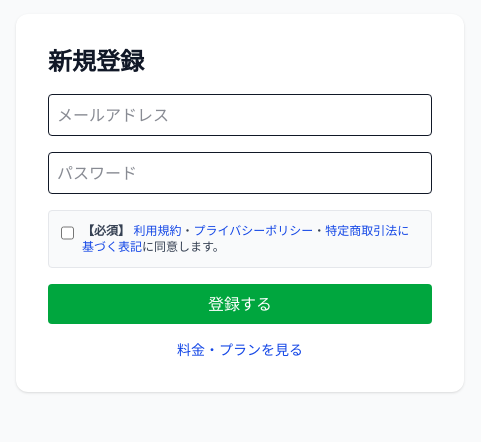
Test case: signup page › requires legal agreement before sign up
Type "new@example.com" into the field with placeholder "メールアドレス" at (240, 115), box [48, 94, 432, 136]
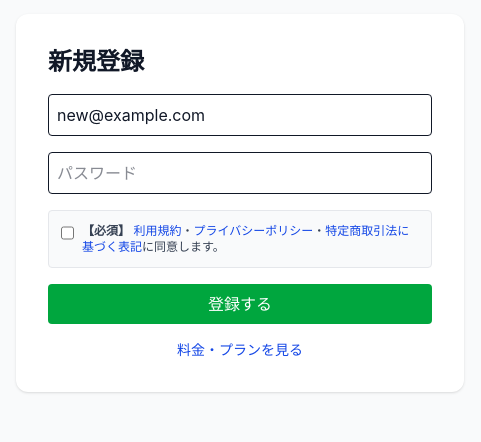
Type "new-password" into the password field with placeholder "パスワード" at (240, 173), box [48, 152, 432, 194]
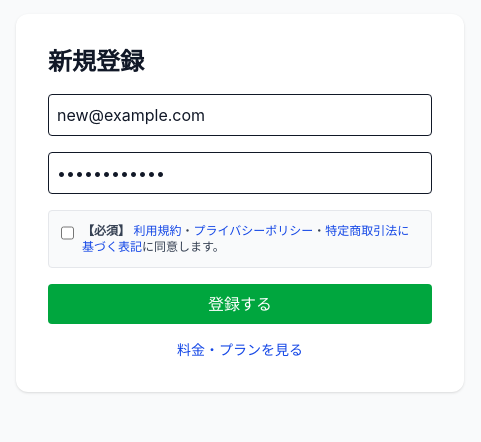
Submit the form "登録する", box [48, 94, 432, 324]
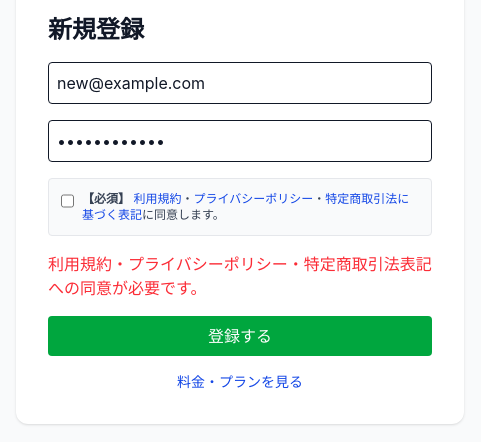
Expected: the text "利用規約・プライバシーポリシー・特定商取引法表記への同意が必要です。" is shown, [48, 252, 432, 300]
